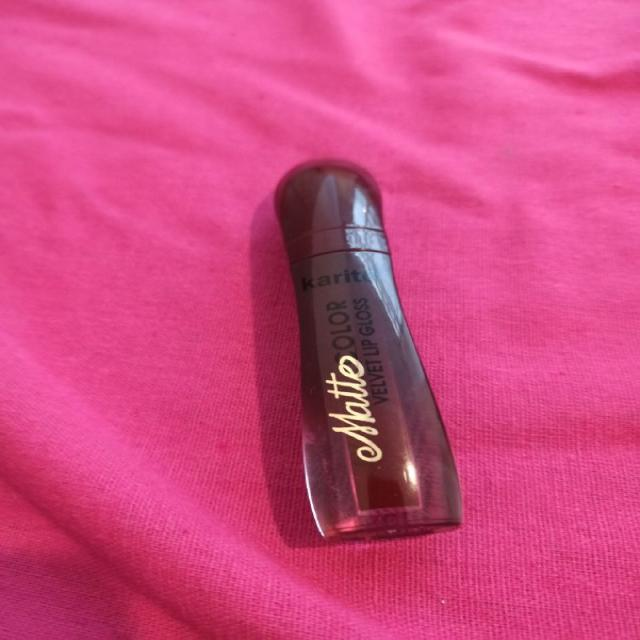lipstick: (272, 157, 463, 540)
